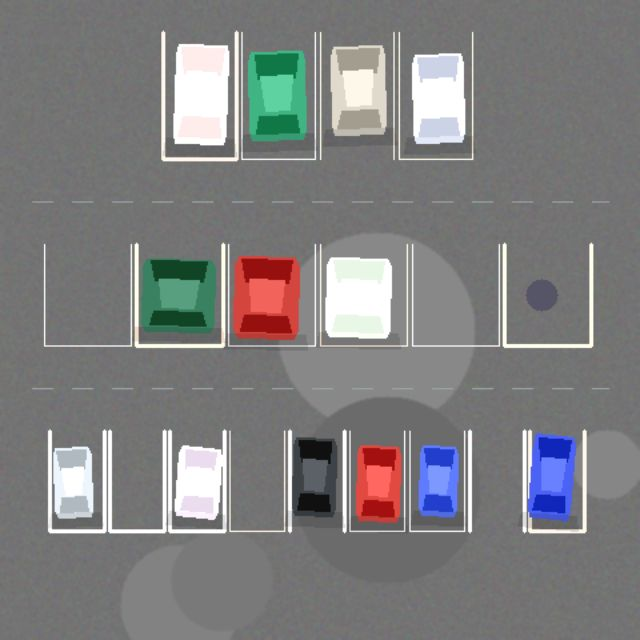space-empty: (44, 244, 131, 345), (412, 244, 499, 345), (504, 244, 591, 345), (109, 431, 164, 531), (229, 431, 284, 531), (469, 431, 524, 531)
space-occupied: (241, 32, 315, 159), (163, 32, 236, 159), (320, 32, 393, 159), (399, 32, 472, 159), (136, 244, 223, 345), (228, 244, 315, 345), (320, 244, 407, 345), (49, 431, 104, 531), (169, 431, 224, 531), (289, 431, 344, 531), (349, 431, 404, 531), (409, 431, 464, 531), (529, 431, 584, 531)
